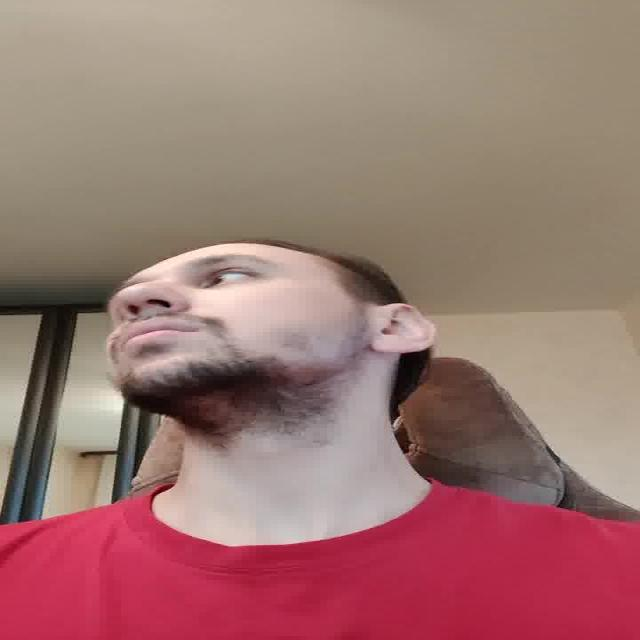earlobe: (371, 342, 417, 355)
eye: (203, 273, 250, 288)
nose: (123, 306, 184, 321)
wholeear: (372, 300, 439, 356)
